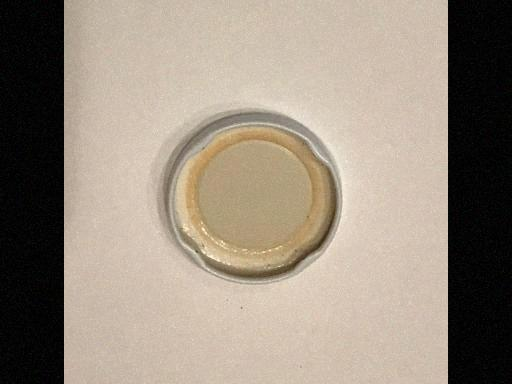metal: (167, 105, 345, 282)
